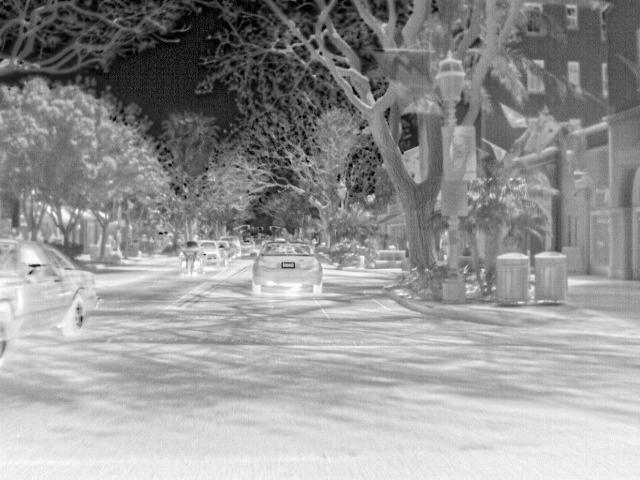car: (1, 237, 99, 360), (246, 238, 324, 299), (197, 238, 224, 269), (216, 232, 243, 257), (335, 249, 365, 271), (218, 243, 231, 262)
person: (188, 234, 200, 248)
